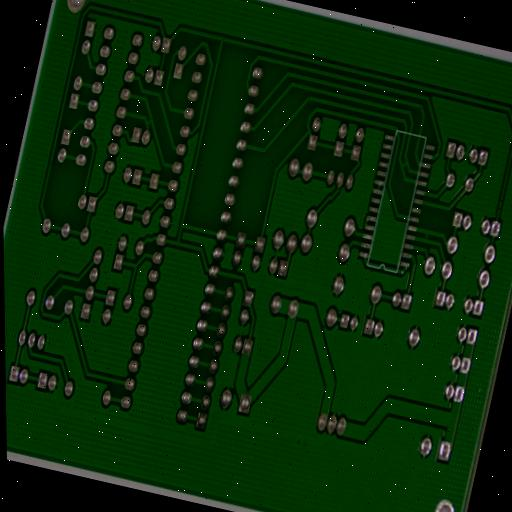short_circuit: (419, 226, 436, 248), (397, 154, 412, 177), (143, 114, 155, 130)
